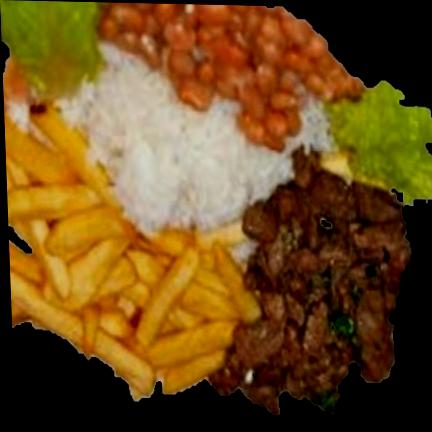beans: (101, 2, 360, 150)
meat: (211, 152, 410, 414)
potato: (4, 111, 260, 401)
rice: (58, 45, 331, 233)
salad: (324, 81, 432, 205), (0, 0, 103, 99)
